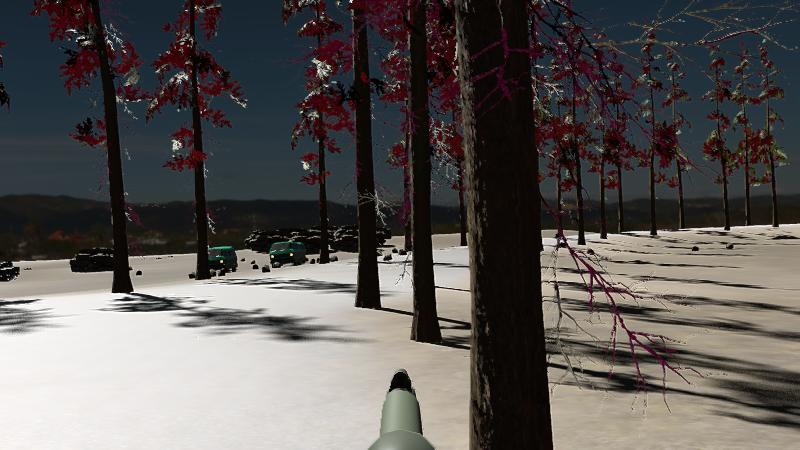Tank: (68, 245, 120, 274), (0, 256, 20, 282)
car: (198, 245, 238, 276), (269, 239, 308, 268)
